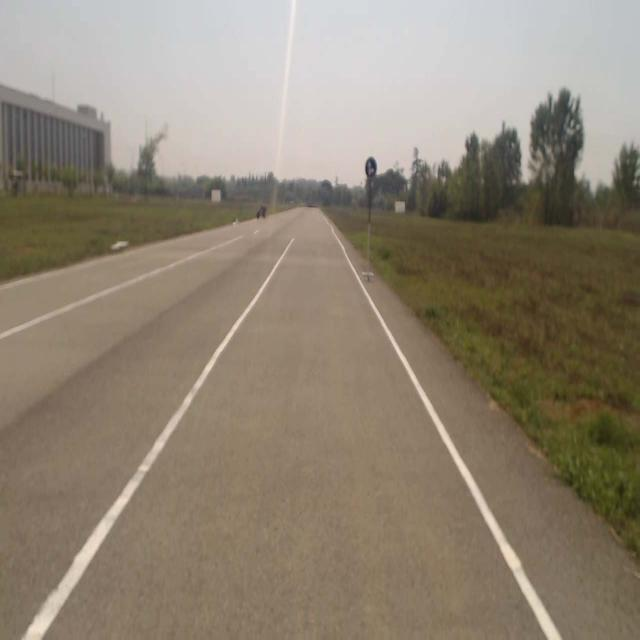ilerisag: (364, 156, 378, 178)
